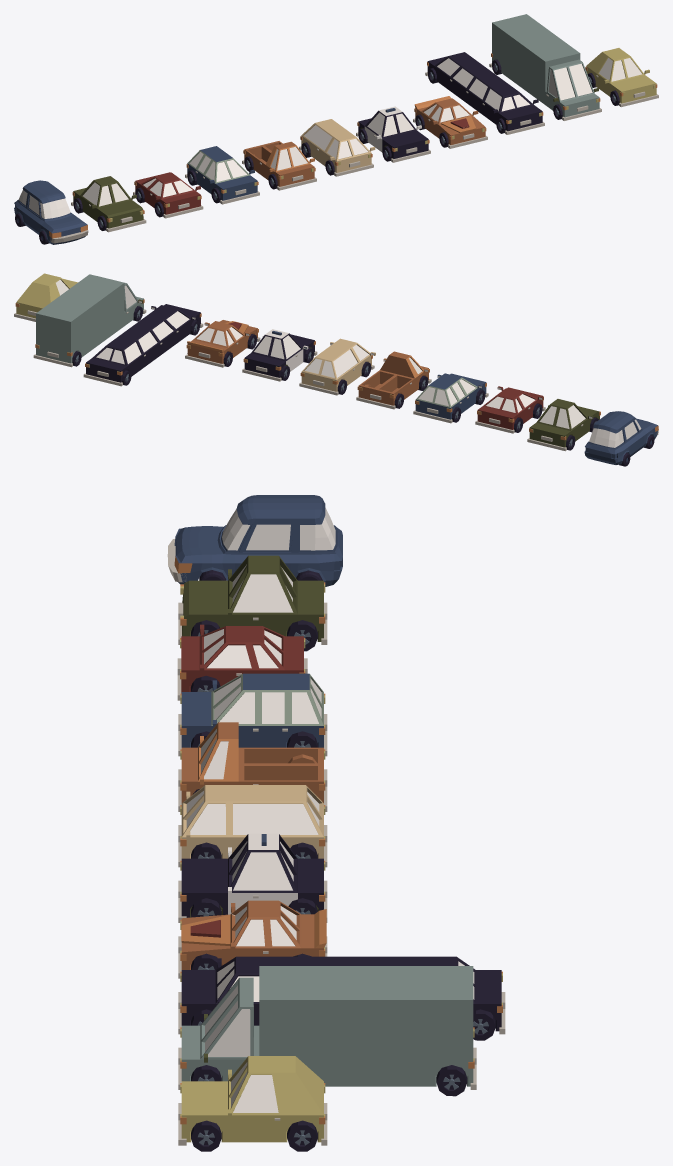
The model's file is vehicles.fbx.
3 renders of one model, top to bottom at view 1: azimuth 30°, elevation 25°; view 2: azimuth 150°, elevation 25°; view 3: azimuth 270°, elevation 25°, orthographic. The views are drawn at different scales.
Visible parts, largest first — view 1: car 9, car 8, car 11, car 5, car 3, car 10, car 6, car 1, car 7, car 4, car 2; view 2: car 9, car 8, car 11, car 5, car 4, car 6, car 3, car 1, car 7, car 2, car 10; view 3: car 9, car 10, car 11, car 3, car 5, car 1, car 6, car 7, car 8, car 4, car 2.
Part boxes in pixels (x1,y1,x2,y2): car 9: (489,14,601,120); car 8: (425,52,544,134); car 11: (14,180,88,244); car 5: (299,119,375,176); car 3: (185,146,259,204); car 10: (585,48,658,107); car 6: (356,106,430,162); car 1: (71,176,146,232); car 7: (413,96,487,148); car 4: (242,141,316,190); car 2: (133,172,203,218); car 9: (33,274,146,367); car 8: (83,304,203,386); car 11: (584,411,658,466); car 5: (299,338,375,395); car 4: (356,351,431,409); car 6: (242,329,317,381); car 3: (413,373,488,423); car 1: (527,399,600,451); car 7: (185,320,260,367); car 2: (475,386,545,433); car 10: (14,273,77,321); car 9: (178,966,476,1096); car 10: (178,1056,327,1151); car 11: (167,495,342,586); car 3: (178,673,327,756); car 5: (178,785,327,867); car 1: (178,555,327,651); car 6: (178,833,327,922); car 7: (178,900,327,978); car 8: (178,956,505,1040); car 4: (178,722,327,811); car 2: (177,624,307,700).
Size of the model in its own units: 3221 by 245 by 769.
Materials: 1 (1 with a texture image).
